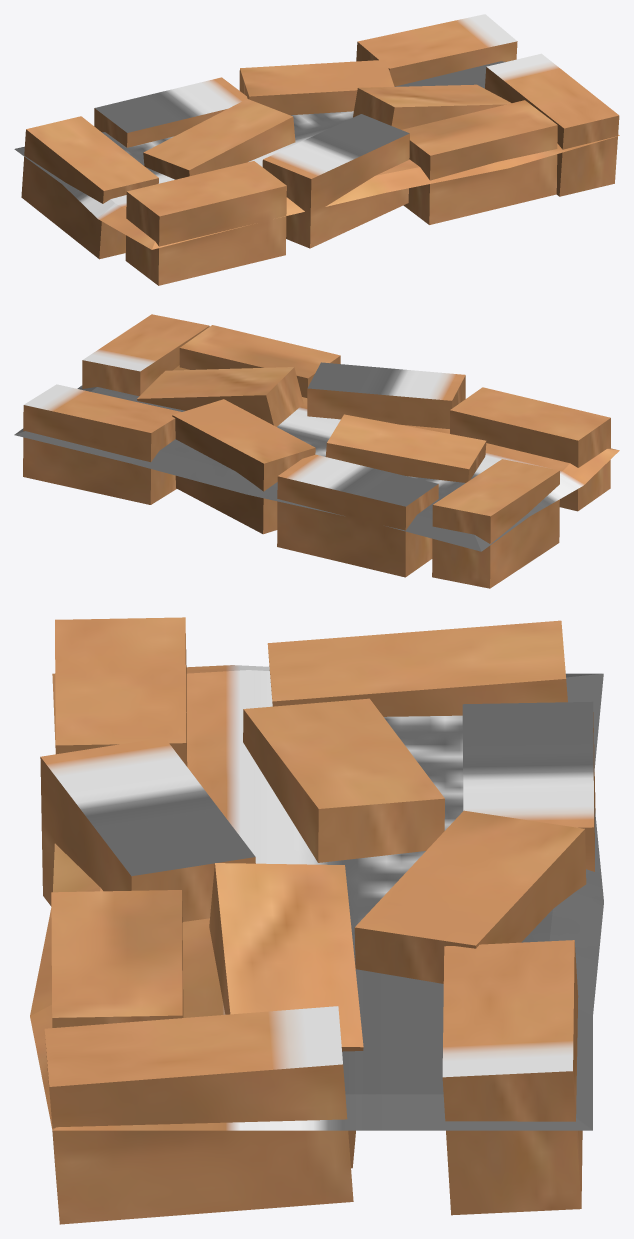
Rendered from Brick_Wall_1x2_Destructed.fbx.
The picture shows the model from 3 angles, top to bottom: view 1: azimuth 30°, elevation 25°; view 2: azimuth 150°, elevation 25°; view 3: azimuth 270°, elevation 25°; orthographic projection. The views are drawn at different scales.
Parts seen in each view (by area): view 1: Brick_Wall_1x2_Destructed; view 2: Brick_Wall_1x2_Destructed; view 3: Brick_Wall_1x2_Destructed.
Boxes of the visible parts, box(x1,y1,x2,y2) form: Brick_Wall_1x2_Destructed: box(14, 14, 619, 285); Brick_Wall_1x2_Destructed: box(14, 314, 619, 588); Brick_Wall_1x2_Destructed: box(30, 617, 603, 1224).
Bounding box in the file's own units: 2.04 × 0.4151 × 1.06.
